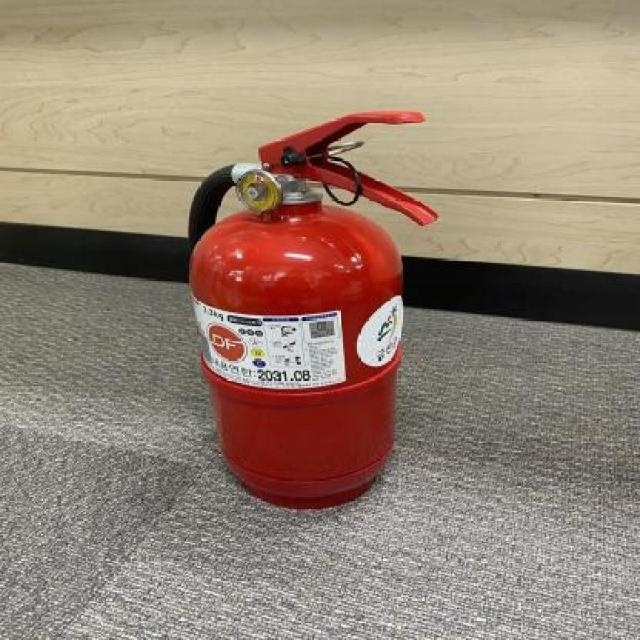fire extinguisher: (189, 108, 440, 508)
